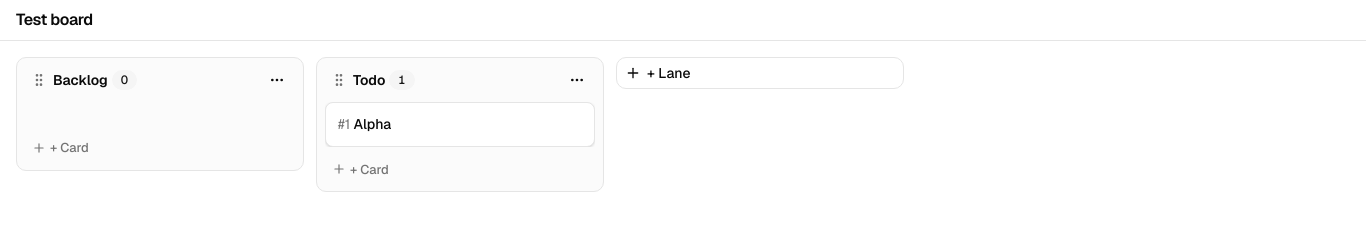
Scenario: an edit is sent to the server and the server's answer is shown, without reloading the board
Check: the text "Alpha" is shown, box [354,115,391,133]
Click the 1st button "+ Card": x=69, y=148 [25,134,295,162]
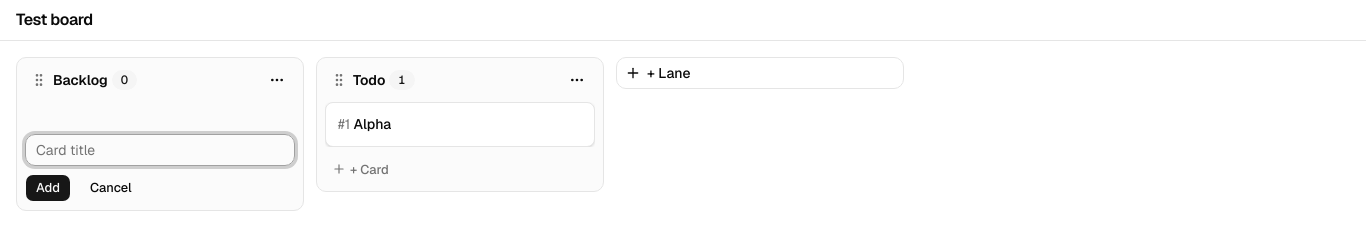
In the field labelled "Card title": x=160, y=150 [25,134,295,166], type "Saved card"
Then press Enter
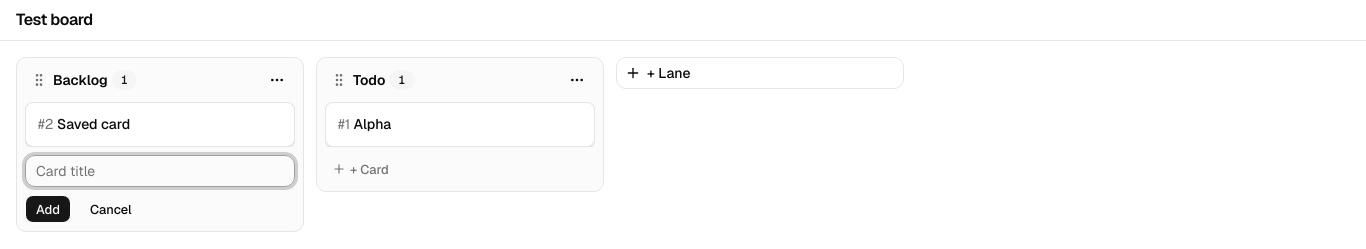
Check: the text "Saved card" is shown, box [57,115,130,133]
